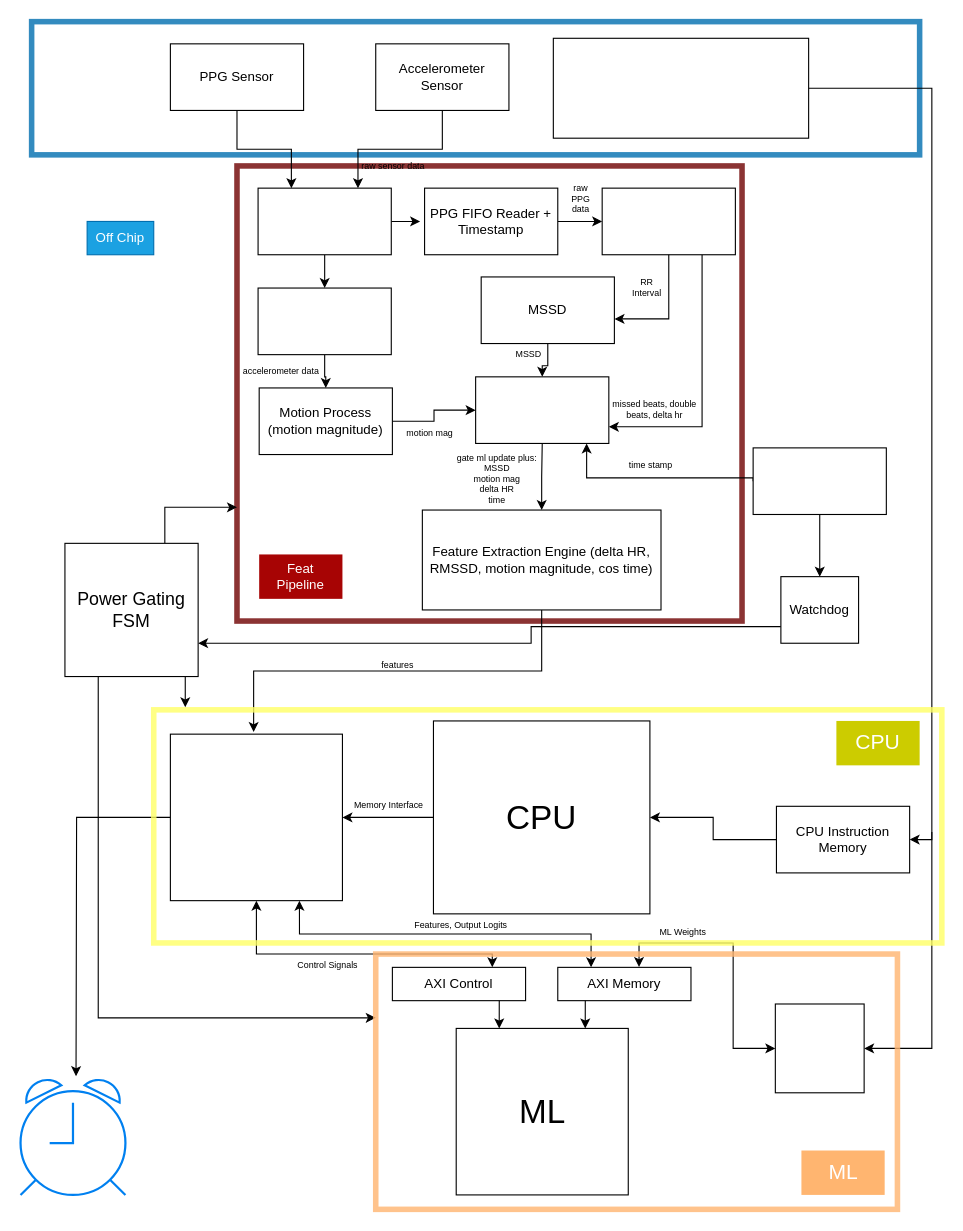
Image size: 963x1231. Some labels were removed from this diagram. Here are the shapes that lost their labels. From the top down, the centre of each, then its label:
At point (680, 87): "external SPI flash memory".
At point (324, 221): "I2C Master Interface".
At point (668, 221): "PPG Process (delta HR, RR)".
At point (324, 321): "Accelerometer Reader".
At point (542, 409): "Signal Quality".
At point (819, 480): "Global Timer".
At point (255, 817): "MMIO Blocks".
At point (819, 1048): "SPI Controller to AXI".
